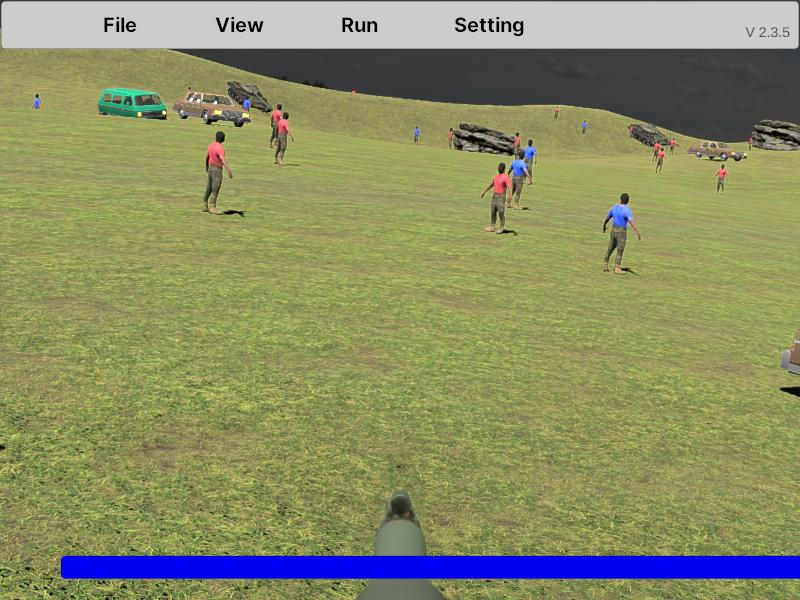Human: (602, 192, 641, 274), (203, 131, 233, 214), (481, 163, 513, 233), (507, 151, 532, 209), (273, 111, 294, 166)
car: (173, 91, 249, 126), (98, 88, 167, 125), (688, 140, 746, 163)
